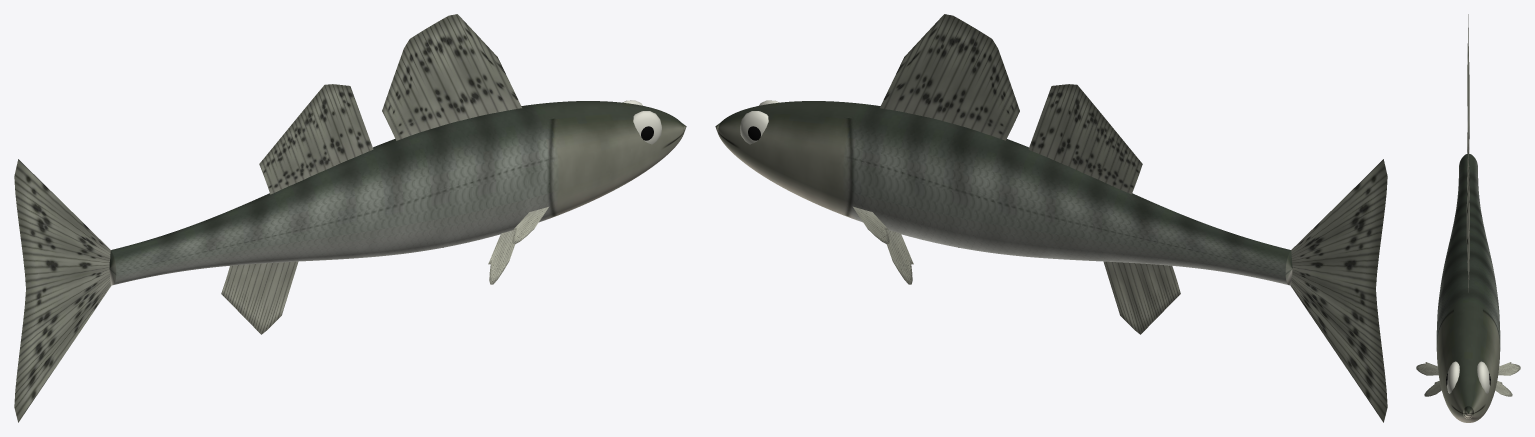
The model's file is fish_zander.gltf.
3 renders of one model, left to right at view 1: azimuth 30°, elevation 25°; view 2: azimuth 150°, elevation 25°; view 3: azimuth 270°, elevation 25°, orthographic. The views are drawn at different scales.
Visible parts, largest first — view 1: fish_zander; view 2: fish_zander; view 3: fish_zander.
Boxes of the visible parts, <box> form: fish_zander: <box>14,14,686,422</box>; fish_zander: <box>715,14,1387,422</box>; fish_zander: <box>1416,14,1520,422</box>.
Bounding box in the file's own units: 0.5416 × 0.2327 × 0.0832.
7 materials, 5 textured.
